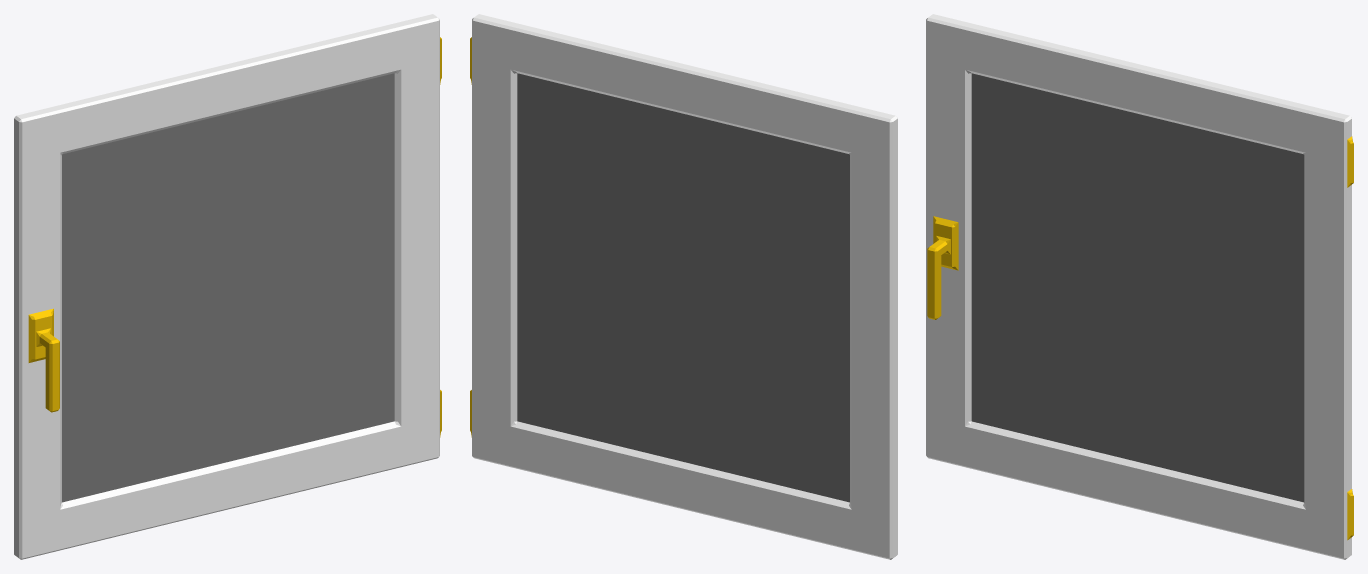
The picture shows the model from 3 angles, left to right: view 1: azimuth 30°, elevation 25°; view 2: azimuth 150°, elevation 25°; view 3: azimuth 330°, elevation 25°; orthographic projection.
Visible parts, largest first — view 1: Cube; view 2: Cube; view 3: Cube.
Part boxes in pixels (x1,y1,x2,y2): Cube: (14,14,441,559); Cube: (470,14,897,559); Cube: (926,14,1353,559).
Bounding box in the file's own units: 101 × 100 × 9.
